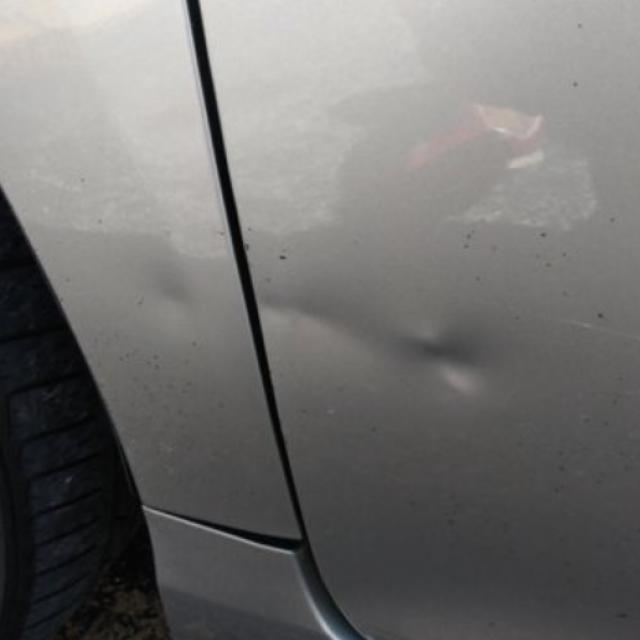dents: (397, 306, 529, 419), (255, 278, 365, 371), (140, 266, 226, 359)
